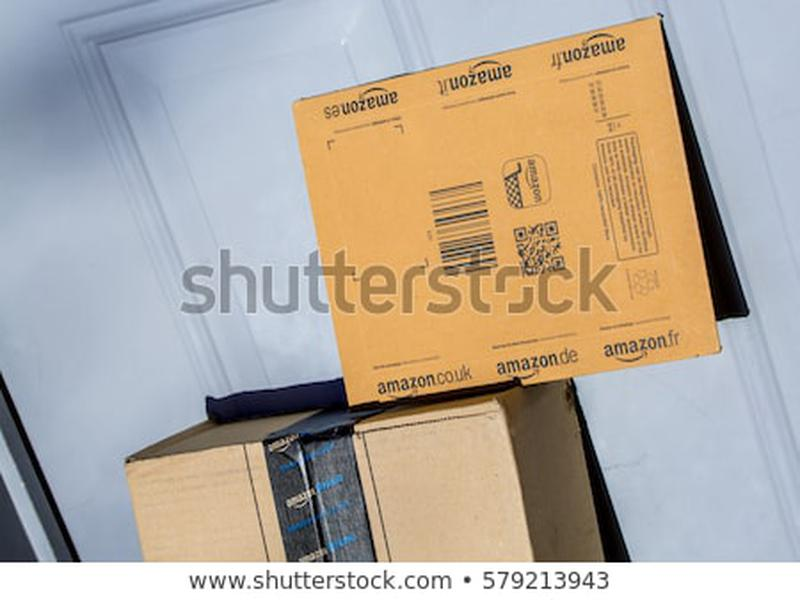package: (276, 8, 731, 425), (108, 372, 615, 553)
